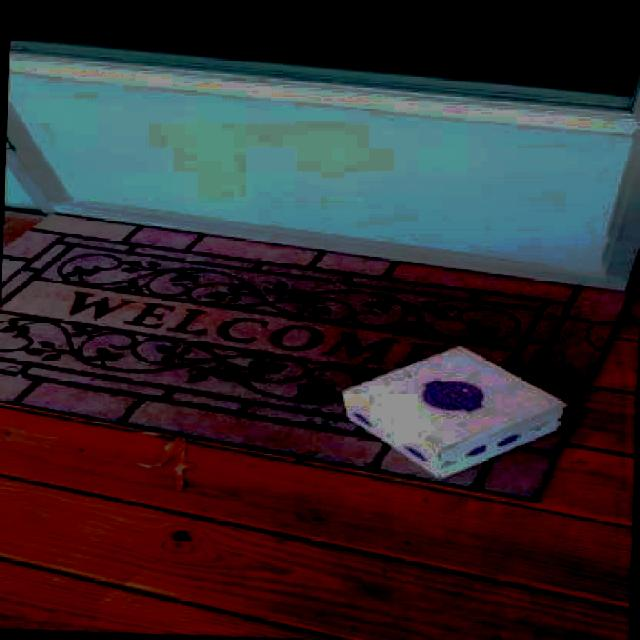Box: (341, 342, 568, 484)
